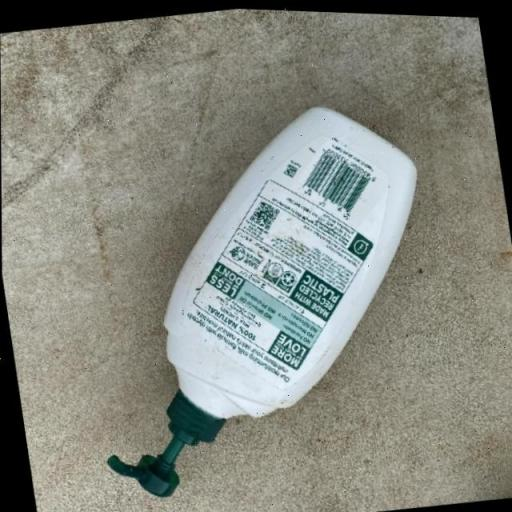plastic: (57, 82, 460, 511)
